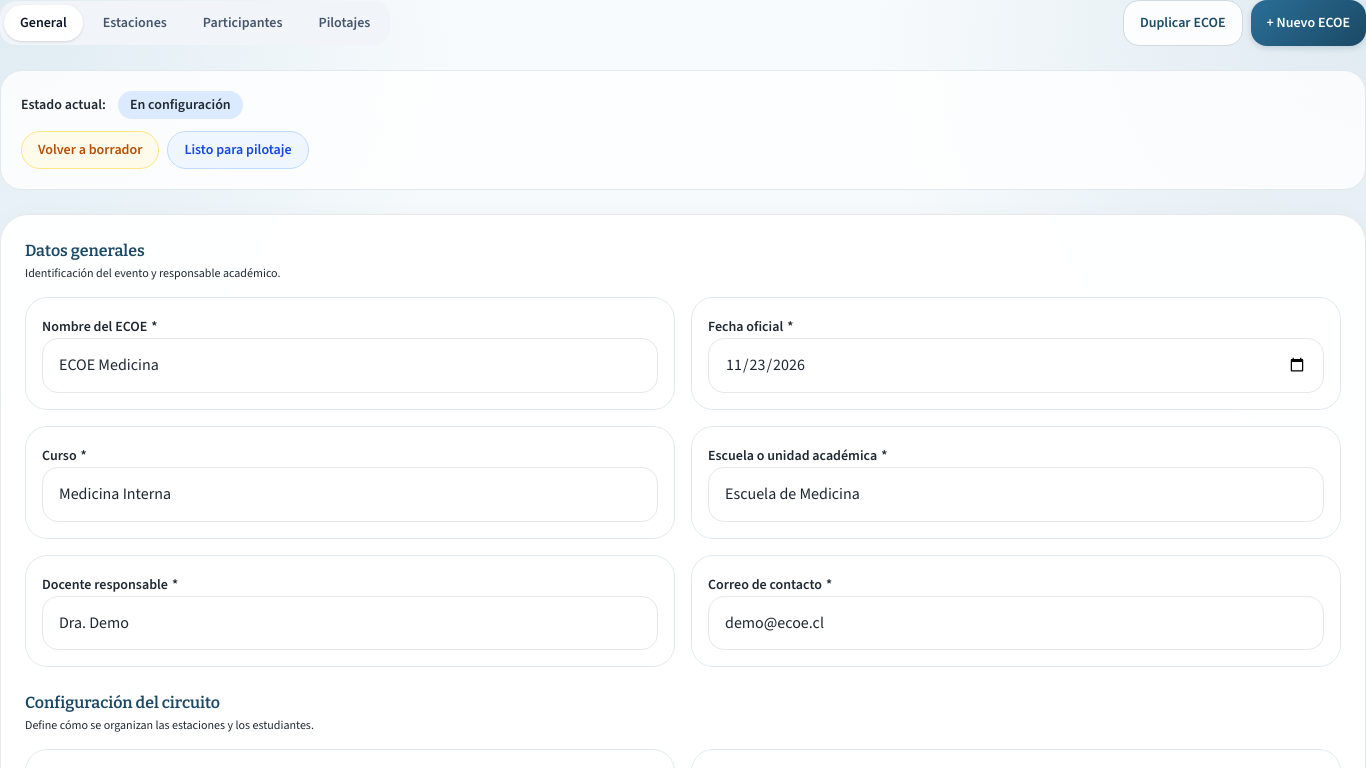
Scenario: Datos del ECOE › tras una transición de estado refresca el contexto que alimenta la barra del shell
The width and height of the screenshot is (1366, 768).
What coordinates should you click on to do the following:
click the button "Listo para pilotaje"
I would click on:
 (238, 150)
Its box is [167, 131, 308, 169].
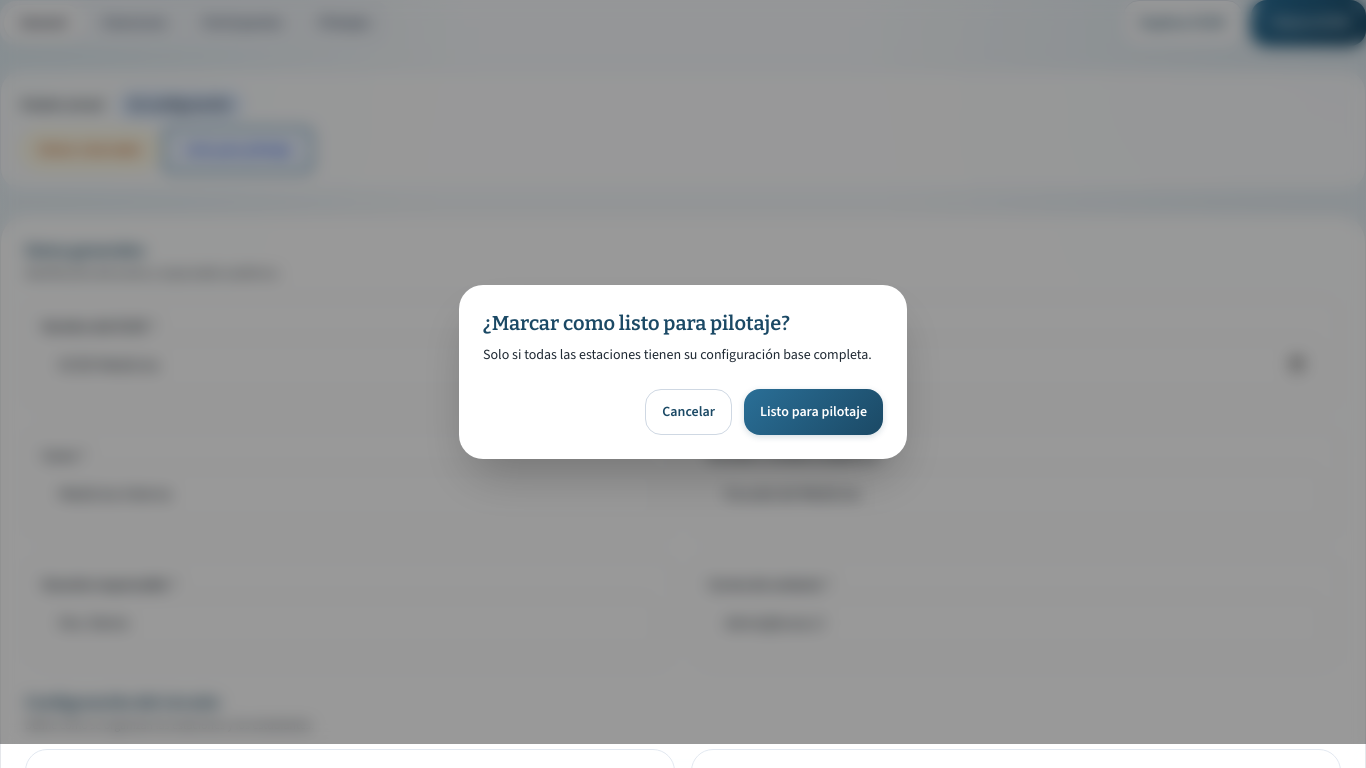
What coordinates should you click on to do the following:
click the button "Listo para pilotaje"
I would click on:
 (813, 412)
Its box is [744, 389, 883, 435].
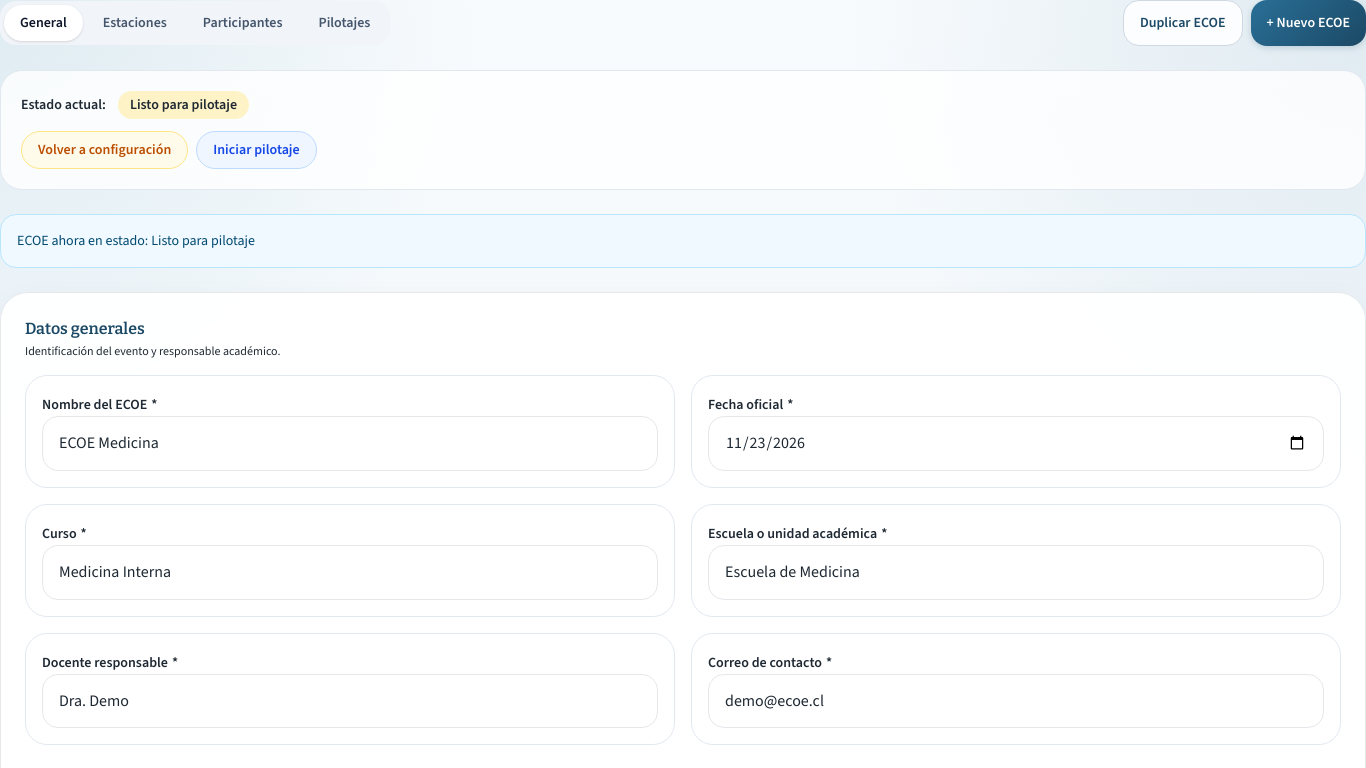
Expected: the text "ECOE ahora en estado: Listo para pilotaje" is shown, [0, 214, 1365, 268]
